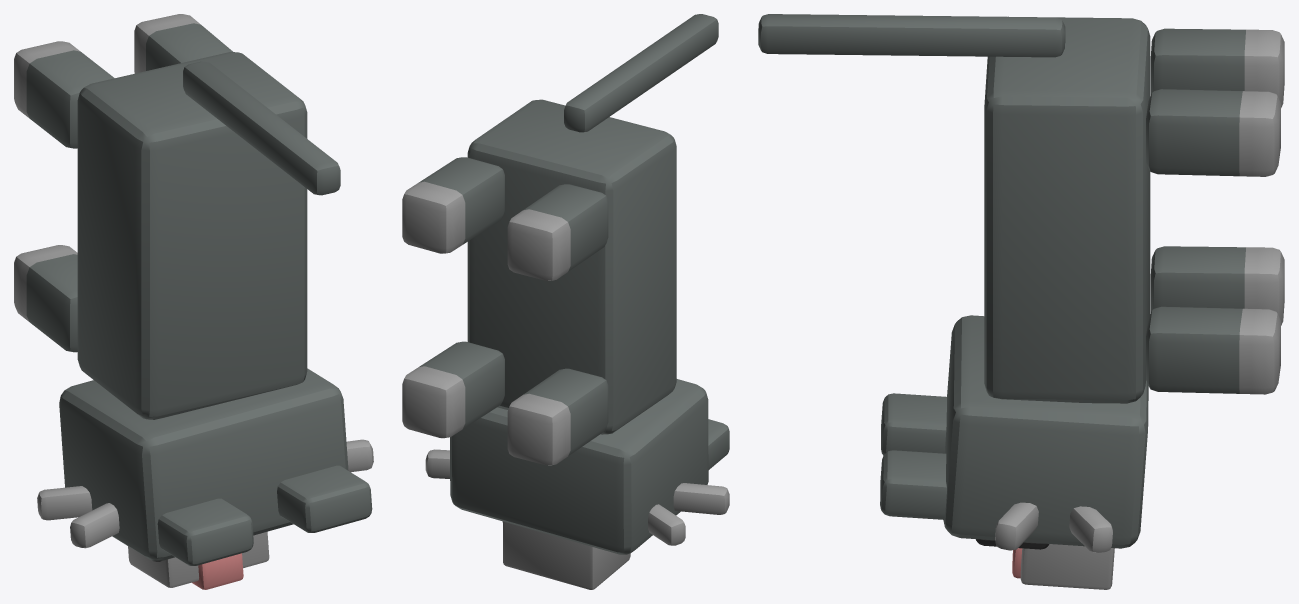
The model's file is polypizza-cat.glb.
The picture shows the model from 3 angles, left to right: view 1: azimuth 30°, elevation 25°; view 2: azimuth 150°, elevation 25°; view 3: azimuth 270°, elevation 25°; orthographic projection. The views are drawn at different scales.
Parts seen in each view (by area): view 1: Cat; view 2: Cat; view 3: Cat.
Boxes of the visible parts, bbox=[...] form: Cat: bbox=[14, 14, 373, 589]; Cat: bbox=[402, 14, 729, 589]; Cat: bbox=[758, 14, 1284, 589].
Bounding box in the file's own units: 0.6085 × 1 × 0.8702.
1 material, 1 textured.
